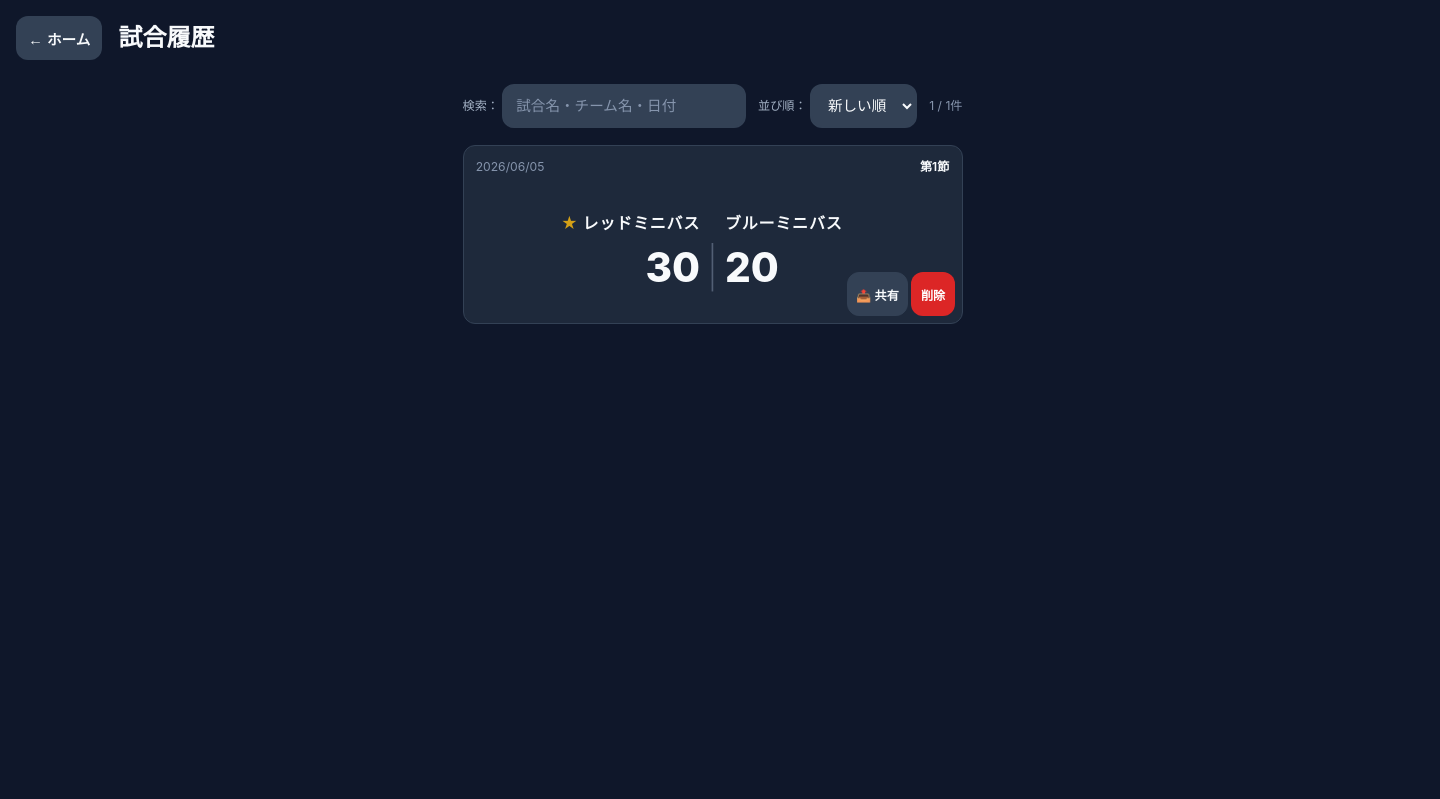
Test: 試合履歴の未割り当ての記録 › 件数と中身を出す
The image size is (1440, 799).
Click the button "2026/06/05 第1節 ★ レッドミニバス 30 | ブルーミニバス 20": (510, 166) [476, 158, 949, 311]
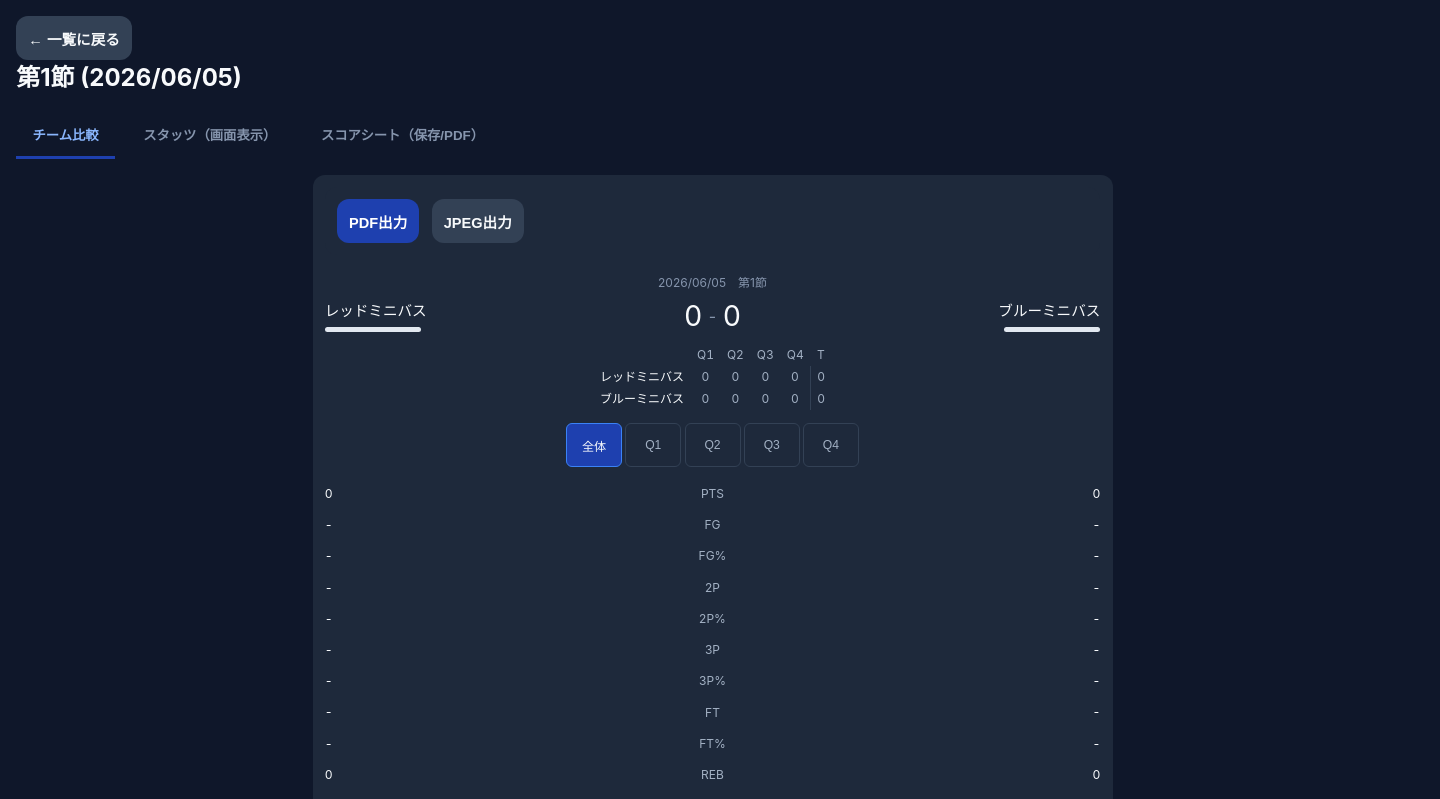
Click the button "スタッツ（画面表示）": (210, 136) [127, 112, 293, 159]
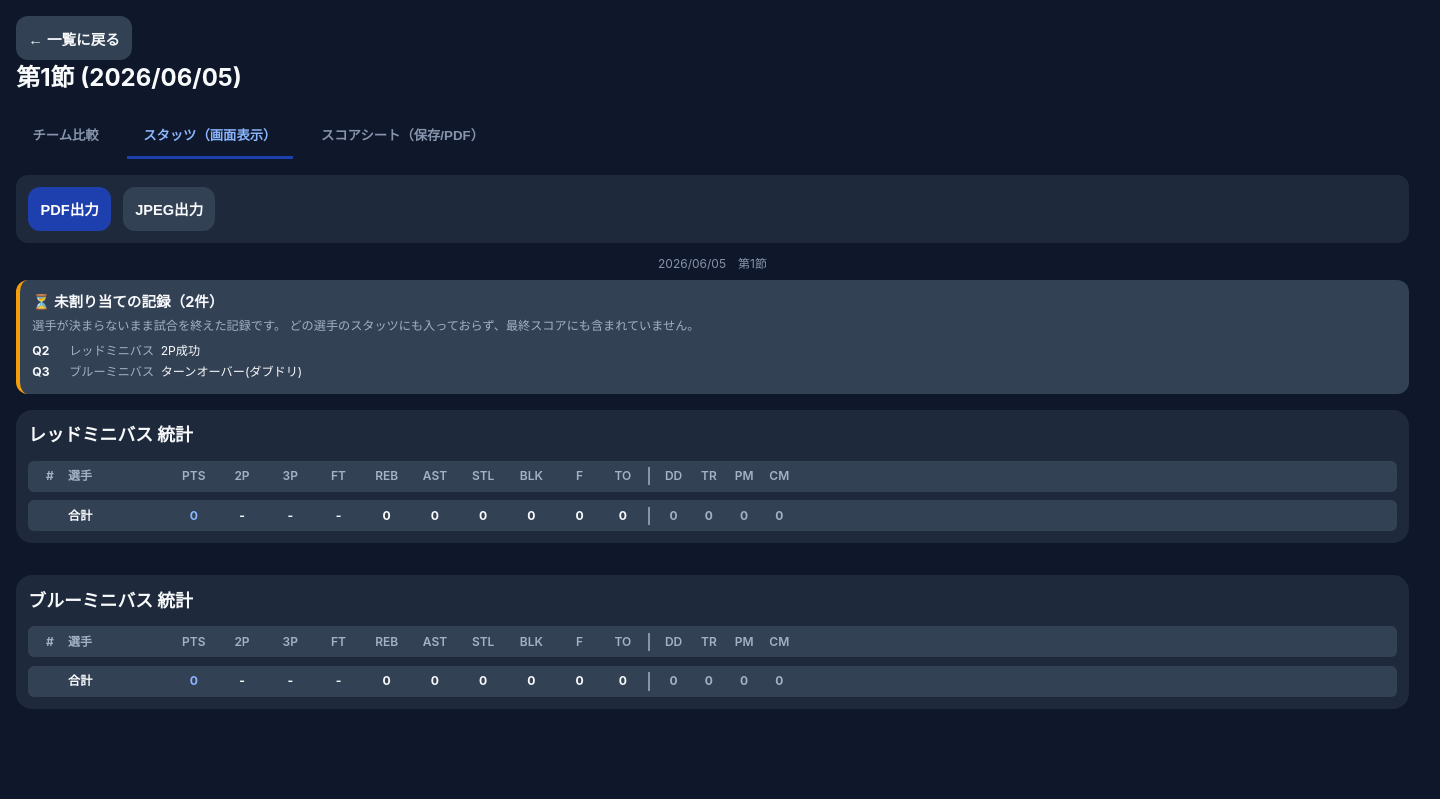
Now the heading "⏳ 未割り当ての記録（2件）" is shown, box [32, 293, 224, 311]
Now the text "2P成功" is shown, box [161, 342, 200, 360]
Now the text "ターンオーバー(ダブドリ)" is shown, box [161, 363, 302, 381]
